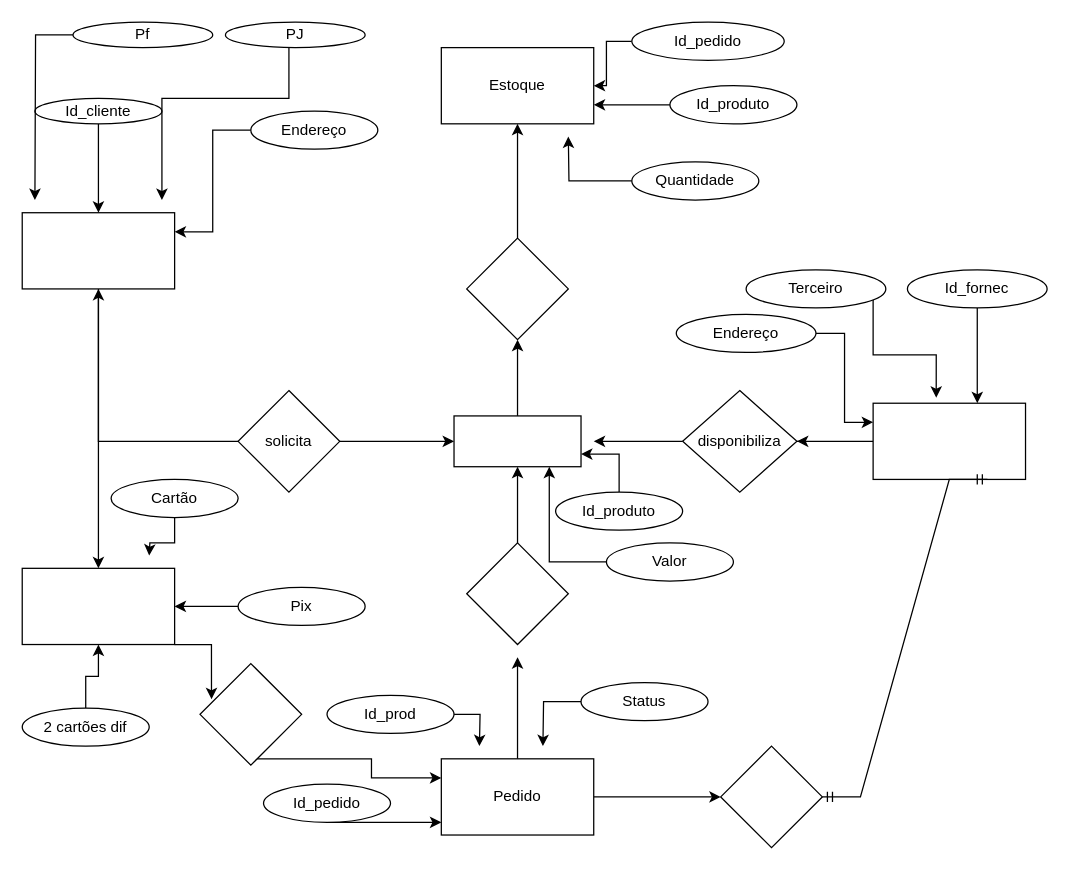
Some shapes in this 1069 by 870 pixel diagram are drawn without their labels. Each missing label, with the box of its shape:
Cliente: (21, 211, 175, 289)
contido: (465, 237, 568, 340)
contém: (465, 542, 568, 645)
Efetuação: (199, 662, 302, 765)
Fornecedor: (872, 402, 1026, 479)
libera: (719, 745, 822, 848)
Pagamento: (21, 567, 175, 645)
Produto: (453, 415, 581, 467)
